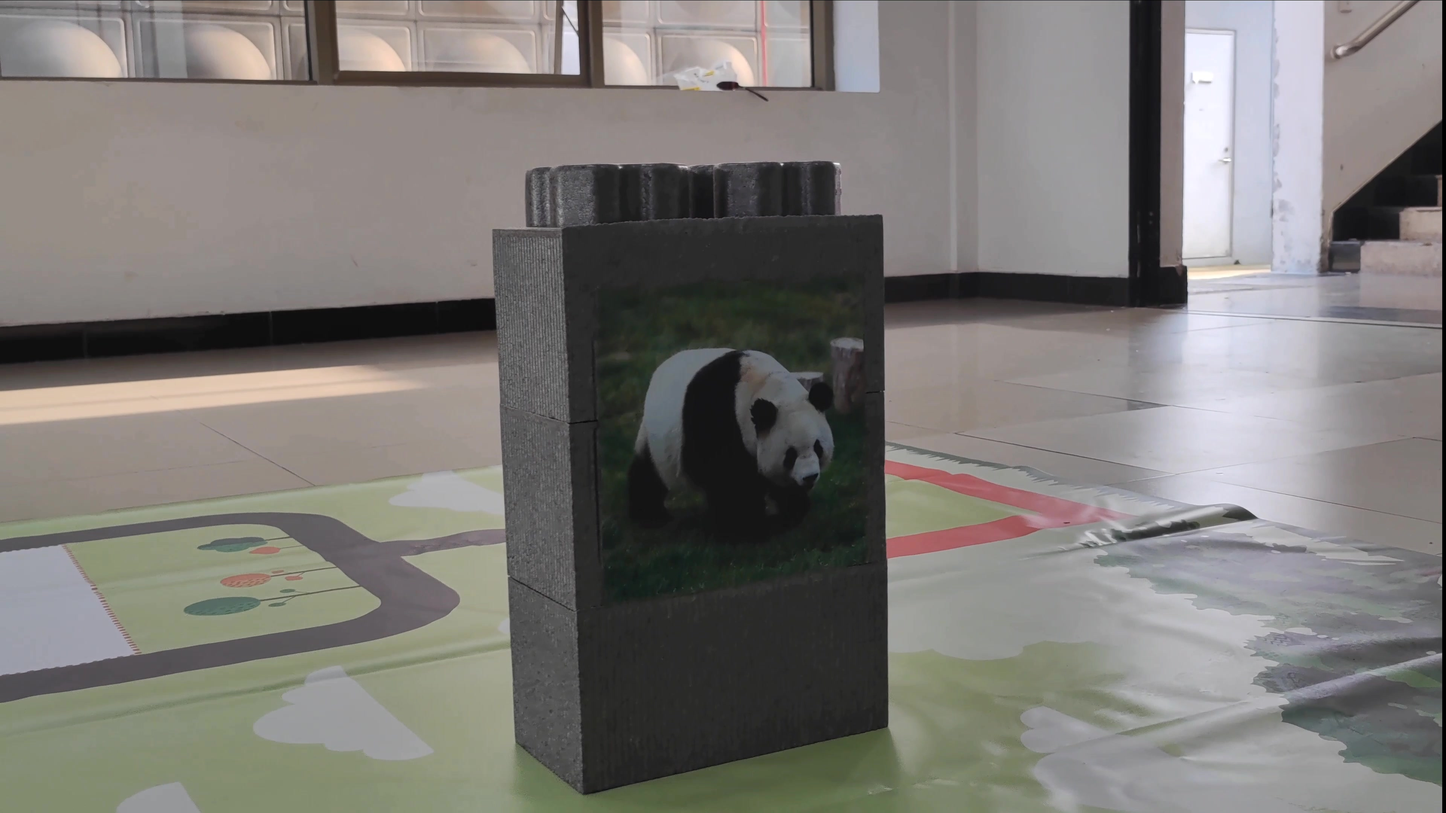panda: (602, 328, 862, 532)
